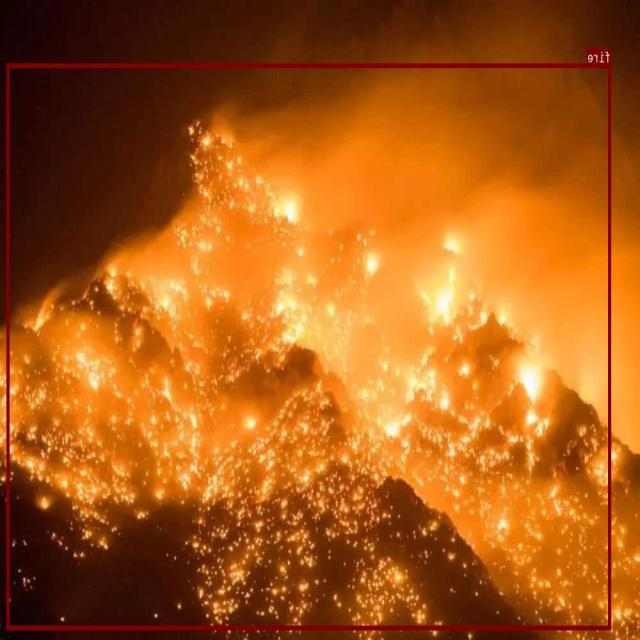fire: (8, 62, 612, 628)
